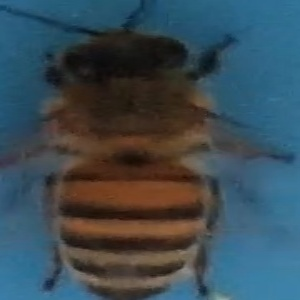bee: (12, 5, 285, 300)
